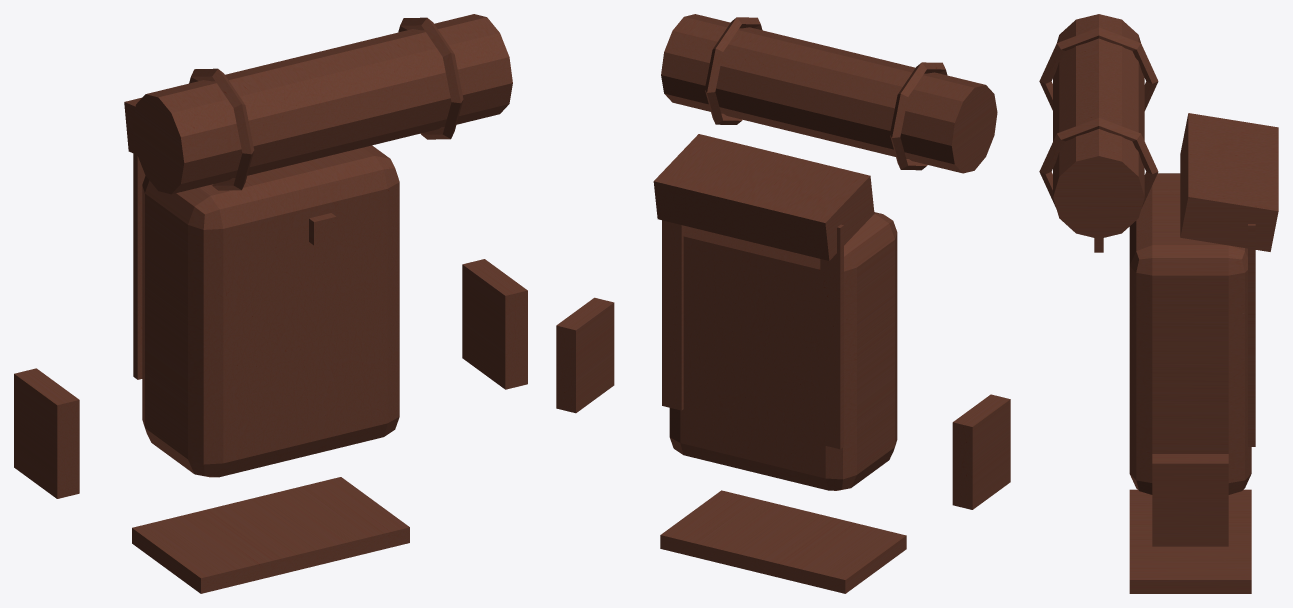
Rendered from backpack.fbx.
The picture shows the model from 3 angles, left to right: view 1: azimuth 30°, elevation 25°; view 2: azimuth 150°, elevation 25°; view 3: azimuth 270°, elevation 25°; orthographic projection. The views are drawn at different scales.
Parts seen in each view (by area): view 1: backpack; view 2: backpack; view 3: backpack.
Boxes of the visible parts, x1,y1,x2,y2 form: backpack: (14,14,527,593); backpack: (556,14,1010,593); backpack: (1039,14,1278,593).
Bounding box in the file's own units: 0.315 × 0.344 × 0.1566.
Materials: 1 (1 with a texture image).
